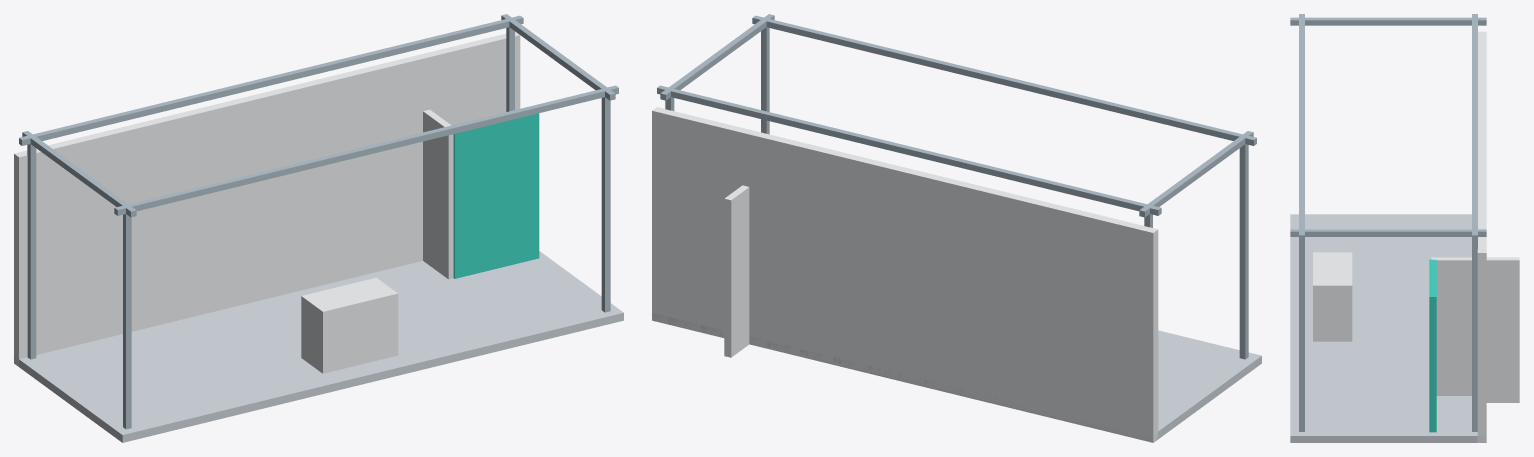
3 renders of one model, left to right at view 1: azimuth 30°, elevation 25°; view 2: azimuth 150°, elevation 25°; view 3: azimuth 270°, elevation 25°, orthographic. The views are drawn at different scales.
Parts seen in each view (by area): view 1: Exhibition Booth Concept; view 2: Exhibition Booth Concept; view 3: Exhibition Booth Concept.
Boxes of the visible parts, <box> form: Exhibition Booth Concept: <box>14,14,623,442</box>; Exhibition Booth Concept: <box>652,14,1261,442</box>; Exhibition Booth Concept: <box>1290,14,1519,442</box>.
Bounding box in the file's own units: 8 × 3.49 × 3.51.
